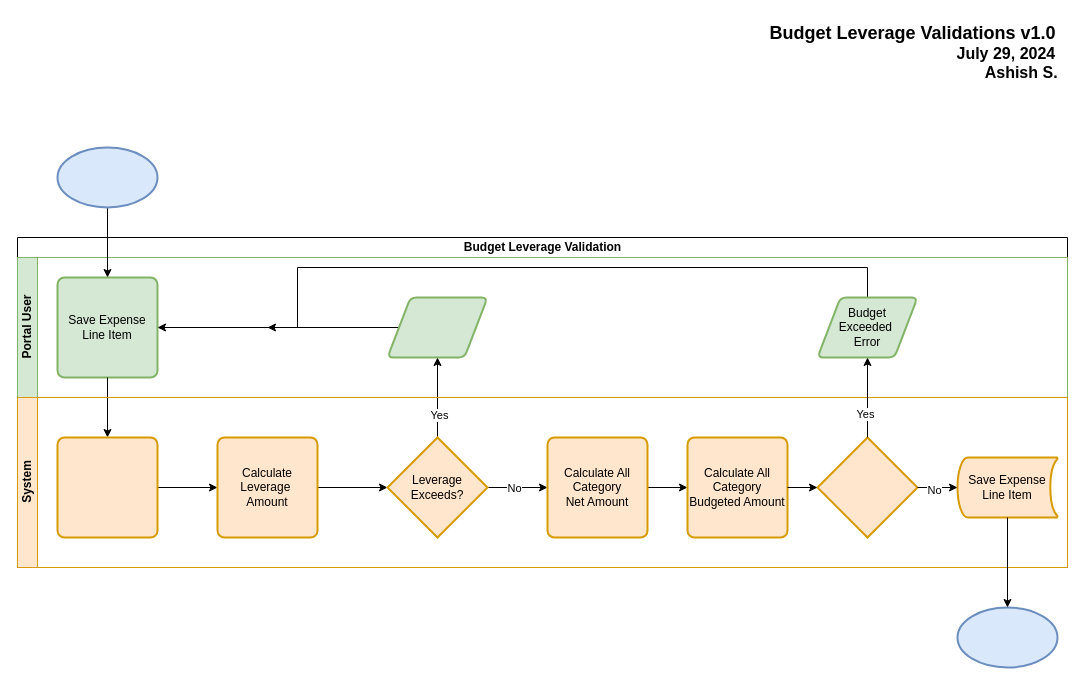
This 1085x685 diagram has some shape labels left out. The shapes that lost their labels are listed below. From the top down, each one's centre as x and y in pixels, then its label:
At (107,177): "Start".
At (437,327): "Leverage Exceeded Error".
At (107,487): "Calculate Category Net Amount".
At (867,487): "Net Amount exceeding Budgeted".
At (1007,637): "End".
